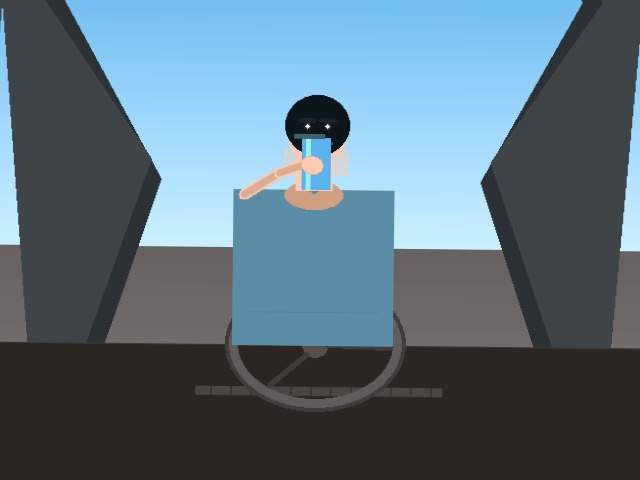drinking: (284, 124, 339, 199)
